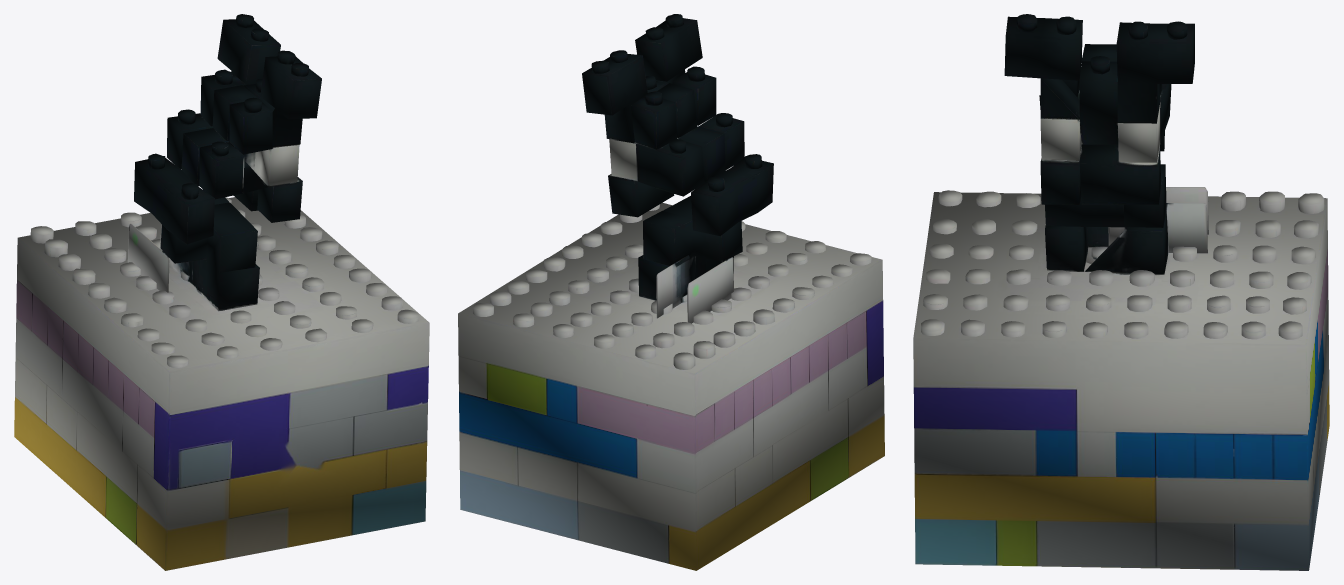
The model's file is object_12_asset_4f802e04.glb.
3 renders of one model, left to right at view 1: azimuth 30°, elevation 25°; view 2: azimuth 150°, elevation 25°; view 3: azimuth 270°, elevation 25°, orthographic. The views are drawn at different scales.
Parts seen in each view (by area): view 1: tripo_node_4063125e-43e6-425e-9f2e-3db54bc61e04; view 2: tripo_node_4063125e-43e6-425e-9f2e-3db54bc61e04; view 3: tripo_node_4063125e-43e6-425e-9f2e-3db54bc61e04.
Boxes of the visible parts, x1=… form: tripo_node_4063125e-43e6-425e-9f2e-3db54bc61e04: x1=14, y1=14, x2=429, y2=570; tripo_node_4063125e-43e6-425e-9f2e-3db54bc61e04: x1=458, y1=14, x2=884, y2=570; tripo_node_4063125e-43e6-425e-9f2e-3db54bc61e04: x1=913, y1=14, x2=1329, y2=570.
Size of the model in its own units: 0.6504 by 0.998 by 0.748.
1 material, 1 textured.
